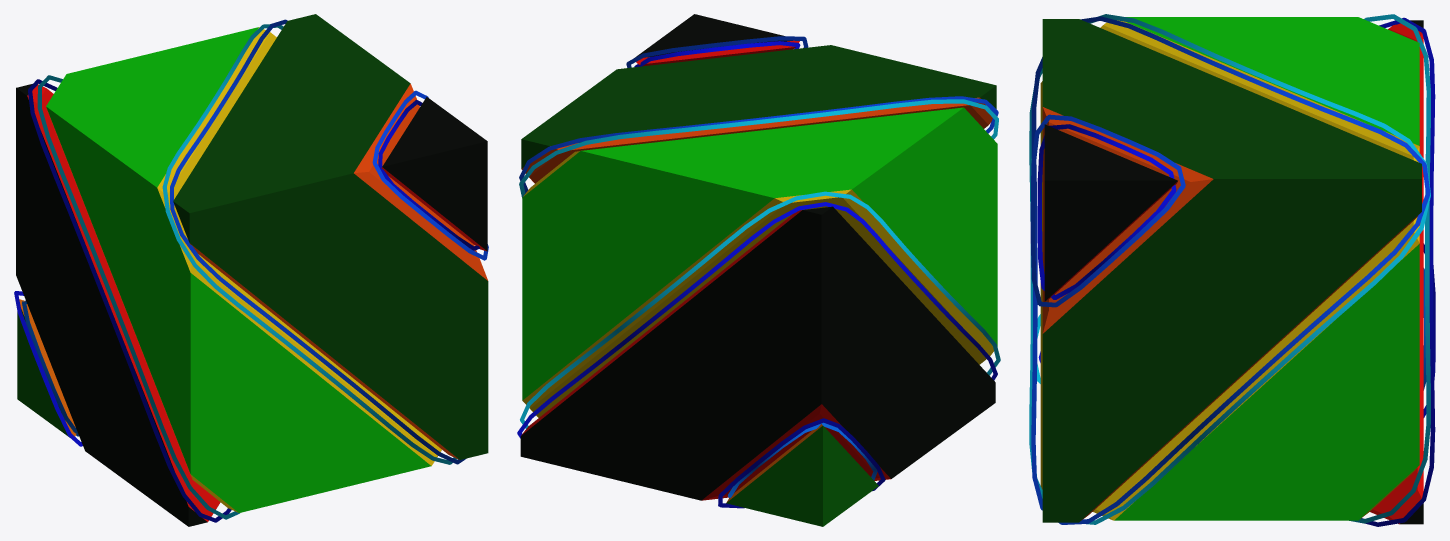
The picture shows the model from 3 angles, left to right: view 1: azimuth 30°, elevation 25°; view 2: azimuth 150°, elevation 25°; view 3: azimuth 270°, elevation 25°; orthographic projection. The views are drawn at different scales.
Visible parts, largest first — view 1: Box_A; view 2: Box_A; view 3: Box_A.
Boxes of the visible parts, x1,y1,x2,y2 form: Box_A: (14,14,488,526); Box_A: (517,14,1000,526); Box_A: (1029,14,1435,526).
Bounding box in the file's own units: 1064 × 1073 × 1072.
